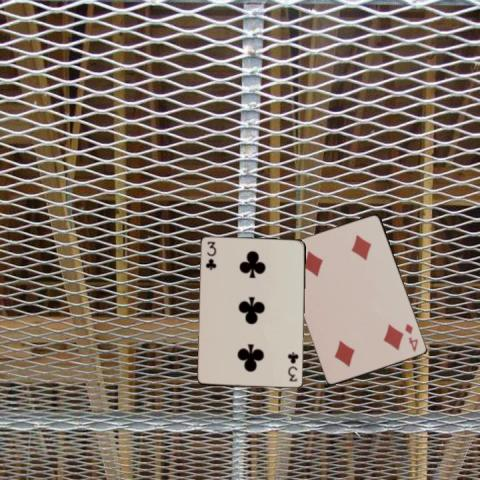3c: (285, 350, 300, 384), (203, 239, 217, 271)
4d: (402, 320, 419, 352)
